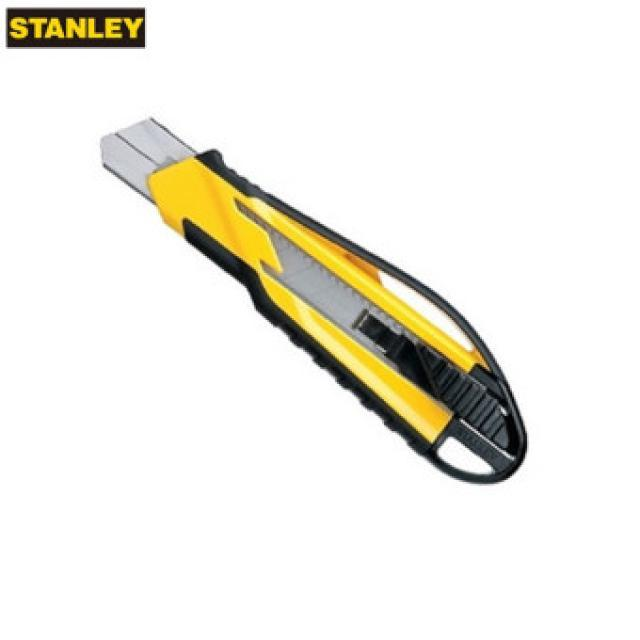cutter: (76, 87, 537, 503)
